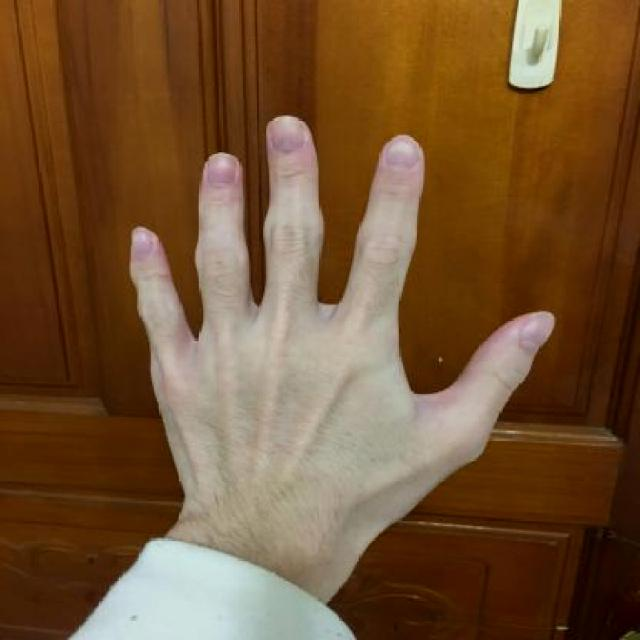no_glove: (105, 94, 582, 549)
